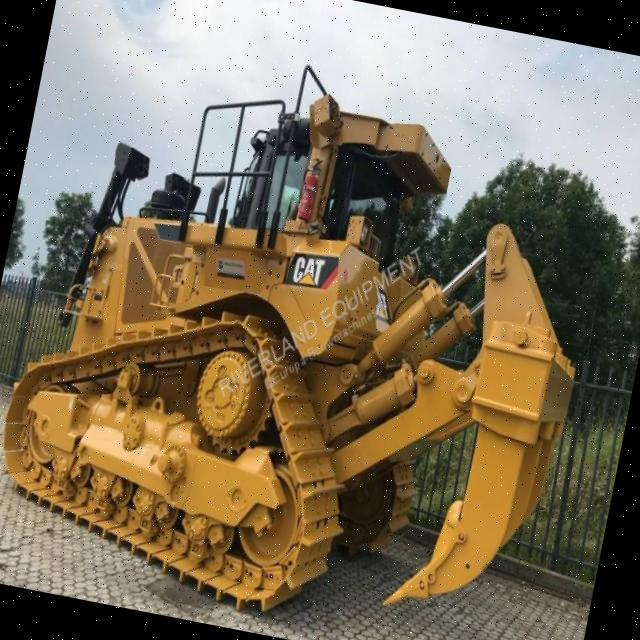Bulldozer: (0, 31, 622, 640)
